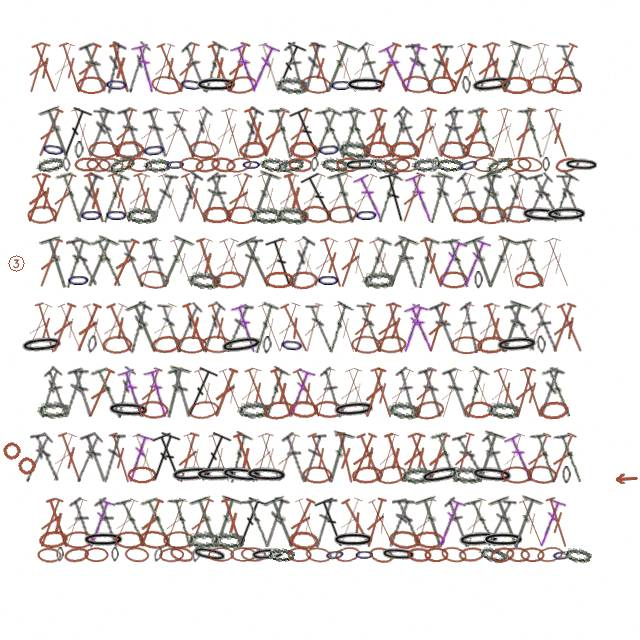chain: (418, 462, 465, 488), (218, 333, 265, 357), (469, 73, 515, 96), (19, 334, 65, 356), (219, 464, 265, 486), (469, 464, 515, 486), (494, 334, 540, 355), (331, 399, 377, 420), (169, 464, 215, 485), (456, 529, 502, 550), (519, 205, 565, 225), (106, 400, 151, 420), (244, 465, 289, 485), (544, 205, 589, 224), (194, 465, 239, 484), (190, 544, 229, 565), (194, 76, 239, 94), (344, 76, 389, 94), (81, 531, 126, 549), (331, 531, 376, 549), (481, 531, 526, 549), (106, 152, 137, 177), (375, 463, 408, 486), (484, 153, 515, 177), (150, 74, 183, 96), (225, 74, 258, 96), (187, 399, 220, 421), (262, 399, 295, 421), (337, 139, 371, 160), (413, 399, 445, 421), (300, 74, 333, 95), (275, 75, 309, 95), (275, 205, 309, 225), (187, 270, 221, 290), (387, 400, 421, 420), (400, 465, 434, 485), (326, 204, 358, 225), (501, 204, 533, 225), (138, 269, 170, 290), (526, 464, 558, 485), (138, 529, 170, 550), (388, 529, 420, 550), (301, 204, 332, 225), (151, 334, 182, 355), (38, 529, 69, 550), (249, 546, 287, 563), (438, 140, 470, 160), (213, 270, 245, 290), (351, 465, 383, 485), (413, 530, 445, 550), (35, 154, 65, 175), (478, 544, 508, 565), (380, 546, 417, 563), (362, 270, 395, 289), (37, 400, 70, 419), (237, 400, 270, 419), (450, 465, 483, 484), (187, 530, 220, 549), (238, 140, 269, 160), (476, 205, 507, 225), (288, 270, 319, 290), (476, 335, 507, 355), (538, 400, 569, 420), (288, 530, 319, 550), (401, 75, 433, 94), (188, 140, 220, 159), (275, 155, 305, 175), (367, 155, 397, 175), (125, 206, 158, 224), (250, 206, 283, 224), (487, 401, 520, 419), (212, 531, 245, 549), (343, 157, 380, 173), (563, 157, 600, 173), (201, 335, 232, 354), (351, 335, 382, 354), (376, 335, 407, 354), (138, 400, 169, 419), (313, 400, 344, 419), (168, 544, 196, 565), (527, 75, 557, 94), (114, 140, 144, 159), (27, 205, 57, 224), (102, 335, 132, 354), (289, 400, 319, 419), (178, 74, 205, 95), (40, 139, 67, 160), (225, 155, 253, 175), (76, 76, 107, 94), (501, 76, 532, 94), (551, 76, 582, 94), (88, 141, 119, 159), (363, 141, 394, 159), (463, 141, 494, 159), (226, 206, 257, 224), (176, 336, 207, 354), (451, 336, 482, 354), (501, 466, 532, 484), (63, 531, 94, 549), (163, 531, 194, 549), (427, 76, 457, 94), (289, 141, 319, 159), (389, 141, 419, 159), (194, 155, 221, 175), (554, 155, 581, 175), (202, 206, 232, 224), (452, 206, 482, 224), (264, 271, 294, 289), (439, 271, 469, 289), (514, 271, 544, 289), (464, 401, 494, 419), (127, 466, 157, 484), (302, 466, 332, 484), (114, 531, 144, 549), (368, 545, 395, 565), (516, 155, 544, 174), (440, 545, 468, 564), (536, 545, 564, 564), (563, 546, 592, 564), (141, 140, 167, 160), (279, 335, 305, 355), (334, 545, 361, 564), (489, 545, 516, 564), (316, 140, 342, 159), (259, 156, 288, 173), (320, 156, 349, 173), (411, 156, 440, 173), (63, 546, 90, 564), (305, 546, 332, 564), (457, 155, 481, 175), (104, 75, 129, 94), (394, 156, 421, 173), (240, 546, 267, 563), (458, 546, 485, 563), (329, 76, 354, 94), (79, 206, 104, 224), (104, 206, 129, 224), (354, 206, 379, 224), (66, 271, 91, 289), (316, 271, 341, 289), (143, 157, 171, 173), (210, 156, 236, 173), (124, 546, 150, 563), (505, 546, 531, 563), (435, 157, 463, 172), (267, 547, 295, 562), (98, 157, 124, 173), (384, 157, 410, 173), (86, 157, 111, 173), (288, 157, 313, 173), (37, 547, 62, 563), (159, 547, 184, 563), (407, 547, 432, 563), (473, 157, 499, 172), (208, 547, 234, 562), (230, 547, 256, 562), (74, 157, 99, 172), (127, 157, 152, 172), (179, 157, 204, 172), (336, 157, 361, 172), (507, 157, 532, 172), (84, 547, 109, 562), (287, 547, 312, 562), (424, 547, 449, 562), (520, 547, 545, 562), (324, 546, 346, 563), (551, 547, 573, 563), (165, 157, 186, 172), (241, 157, 262, 172), (354, 547, 375, 562), (86, 335, 98, 354), (536, 335, 547, 354), (461, 76, 472, 94), (152, 547, 164, 563), (74, 141, 84, 159), (262, 336, 272, 354), (474, 271, 483, 289), (562, 466, 571, 484), (191, 547, 201, 563), (62, 157, 71, 172), (310, 157, 319, 172), (431, 157, 440, 172), (542, 157, 550, 172), (56, 547, 64, 562), (111, 547, 119, 562)
double: (299, 170, 342, 226), (236, 235, 279, 291), (79, 235, 120, 291), (154, 235, 195, 291), (125, 300, 166, 356), (179, 365, 220, 421), (268, 40, 308, 96), (318, 40, 358, 96), (38, 105, 78, 161), (288, 105, 328, 161), (380, 235, 420, 291), (480, 235, 520, 291), (193, 430, 233, 486), (263, 495, 303, 551), (488, 495, 528, 551), (55, 105, 94, 161), (243, 170, 282, 226), (463, 235, 502, 291), (151, 430, 190, 486), (230, 495, 269, 551), (313, 495, 352, 551), (505, 495, 544, 551), (305, 105, 344, 160), (494, 40, 532, 96), (477, 170, 515, 226), (494, 300, 532, 356), (144, 430, 182, 486), (469, 430, 507, 486), (189, 495, 227, 551), (206, 495, 244, 551), (414, 495, 452, 551), (114, 495, 152, 550), (464, 495, 502, 550), (327, 170, 364, 226), (39, 235, 76, 291), (264, 235, 301, 291), (338, 496, 377, 549), (377, 41, 415, 95), (289, 366, 327, 420), (281, 496, 319, 550), (314, 105, 351, 160), (94, 170, 131, 225), (89, 235, 126, 290), (89, 365, 126, 420), (139, 495, 176, 550), (320, 430, 356, 486), (177, 171, 214, 225), (319, 171, 356, 225), (352, 171, 389, 225), (106, 236, 143, 290), (102, 301, 139, 355), (277, 301, 314, 355), (364, 496, 401, 550), (545, 170, 581, 225), (357, 235, 393, 290), (540, 365, 576, 420), (245, 41, 281, 95), (545, 41, 581, 95), (257, 106, 293, 160), (28, 171, 64, 225), (220, 171, 256, 225), (345, 171, 381, 225), (215, 236, 251, 290), (290, 236, 326, 290), (365, 236, 401, 290), (432, 236, 468, 290), (540, 236, 576, 290), (20, 301, 56, 355), (53, 301, 89, 355), (95, 301, 131, 355), (145, 301, 181, 355), (403, 301, 439, 355), (553, 301, 589, 355), (82, 366, 118, 420), (382, 366, 418, 420), (345, 431, 381, 485), (503, 431, 539, 485), (157, 105, 192, 160), (240, 105, 275, 160), (332, 105, 367, 160), (370, 170, 405, 225), (378, 170, 413, 225), (57, 235, 92, 290), (515, 235, 550, 290), (178, 300, 213, 355), (257, 365, 292, 420), (553, 430, 588, 485), (240, 495, 275, 550), (332, 495, 367, 550), (452, 432, 489, 484), (528, 171, 564, 224), (158, 365, 192, 421), (28, 41, 63, 95), (78, 41, 113, 95), (153, 41, 188, 95), (428, 41, 463, 95), (453, 41, 488, 95), (32, 106, 67, 160), (70, 171, 105, 225), (295, 171, 330, 225), (307, 236, 342, 290), (457, 236, 492, 290), (70, 301, 105, 355), (78, 301, 113, 355), (370, 301, 405, 355), (428, 301, 463, 355), (190, 366, 225, 420), (215, 366, 250, 420), (465, 366, 500, 420), (490, 366, 525, 420), (128, 431, 163, 485), (353, 431, 388, 485), (520, 431, 555, 485), (545, 431, 580, 485), (107, 496, 142, 550), (432, 496, 467, 550), (515, 496, 550, 550), (196, 40, 230, 95), (371, 40, 405, 95), (341, 105, 375, 160), (441, 235, 475, 290), (246, 300, 280, 355), (321, 300, 355, 355), (54, 430, 88, 485), (71, 41, 105, 95), (229, 41, 263, 95), (329, 41, 363, 95), (446, 41, 480, 95), (479, 41, 513, 95), (504, 41, 538, 95), (46, 171, 80, 225), (154, 171, 188, 225), (404, 171, 438, 225), (33, 236, 67, 290), (166, 236, 200, 290), (183, 236, 217, 290), (208, 236, 242, 290), (341, 236, 375, 290), (46, 301, 80, 355), (254, 301, 288, 355), (521, 301, 555, 355), (546, 301, 580, 355), (208, 366, 242, 420), (241, 366, 275, 420), (341, 366, 375, 420), (441, 366, 475, 420), (46, 431, 80, 485), (79, 431, 113, 485), (304, 431, 338, 485), (404, 431, 438, 485), (33, 496, 67, 550), (133, 496, 167, 550), (183, 496, 217, 550), (291, 496, 325, 550), (533, 496, 567, 550), (20, 432, 55, 484), (254, 40, 287, 95), (471, 40, 504, 95), (529, 40, 562, 95), (133, 105, 166, 160), (416, 105, 449, 160), (466, 105, 499, 160), (54, 170, 87, 225), (421, 170, 454, 225), (316, 235, 349, 290), (271, 300, 304, 355), (458, 365, 491, 420), (516, 365, 549, 420), (271, 430, 304, 485), (429, 430, 462, 485), (529, 430, 562, 485), (391, 106, 425, 159), (454, 171, 488, 224), (66, 236, 100, 289), (504, 301, 538, 354), (529, 301, 563, 354), (483, 496, 517, 549), (204, 41, 237, 95), (83, 106, 116, 160), (116, 106, 149, 160), (191, 106, 224, 160), (283, 106, 316, 160), (366, 106, 399, 160), (458, 106, 491, 160), (541, 106, 574, 160), (21, 171, 54, 225), (104, 171, 137, 225), (121, 171, 154, 225), (229, 171, 262, 225), (254, 171, 287, 225), (396, 171, 429, 225), (446, 171, 479, 225), (504, 171, 537, 225), (258, 236, 291, 290), (416, 236, 449, 290), (204, 301, 237, 355), (471, 301, 504, 355), (266, 366, 299, 420), (283, 366, 316, 420), (333, 366, 366, 420), (533, 366, 566, 420), (179, 431, 212, 485), (204, 431, 237, 485), (229, 431, 262, 485), (254, 431, 287, 485), (396, 431, 429, 485), (83, 496, 116, 550), (158, 496, 191, 550), (521, 172, 555, 224), (71, 432, 105, 484), (222, 40, 254, 95), (484, 105, 516, 160), (517, 105, 549, 160), (409, 235, 441, 290), (422, 300, 454, 355), (222, 430, 254, 485), (542, 495, 574, 550), (179, 41, 212, 94), (171, 171, 204, 224), (283, 236, 316, 289), (22, 41, 54, 95), (47, 41, 79, 95), (55, 41, 87, 95), (147, 41, 179, 95), (67, 106, 99, 160), (142, 106, 174, 160), (209, 106, 241, 160), (359, 106, 391, 160), (534, 106, 566, 160), (130, 171, 162, 225), (280, 171, 312, 225), (142, 236, 174, 290), (192, 236, 224, 290), (334, 236, 366, 290), (230, 301, 262, 355), (330, 301, 362, 355), (347, 301, 379, 355), (397, 301, 429, 355), (480, 301, 512, 355), (67, 366, 99, 420), (117, 366, 149, 420), (134, 366, 166, 420), (417, 366, 449, 420), (434, 366, 466, 420), (484, 366, 516, 420), (122, 431, 154, 485), (422, 431, 454, 485), (497, 431, 529, 485), (42, 496, 74, 550), (59, 496, 91, 550), (217, 496, 249, 550), (259, 496, 291, 550), (171, 302, 204, 354), (167, 495, 198, 550), (355, 41, 387, 94), (405, 41, 437, 94), (422, 41, 454, 94), (147, 171, 179, 224), (205, 171, 237, 224), (497, 171, 529, 224), (222, 301, 254, 354), (30, 431, 62, 484), (392, 496, 424, 549), (442, 496, 474, 549), (105, 41, 136, 95), (305, 41, 336, 95), (347, 41, 378, 95), (397, 41, 428, 95), (522, 41, 553, 95), (109, 106, 140, 160), (217, 106, 248, 160), (234, 106, 265, 160), (409, 106, 440, 160), (80, 171, 111, 225), (272, 171, 303, 225), (134, 236, 165, 290), (509, 236, 540, 290), (534, 236, 565, 290), (122, 301, 153, 355), (447, 301, 478, 355), (167, 366, 198, 420), (234, 366, 265, 420), (359, 366, 390, 420), (367, 366, 398, 420), (409, 366, 440, 420), (509, 366, 540, 420), (105, 431, 136, 485), (172, 431, 203, 485), (372, 431, 403, 485), (380, 431, 411, 485), (409, 496, 440, 550), (167, 107, 199, 159), (268, 105, 298, 160), (305, 301, 336, 354), (42, 366, 73, 419), (280, 431, 311, 484), (480, 431, 511, 484), (384, 496, 415, 549), (173, 41, 203, 95), (493, 106, 523, 160), (510, 106, 540, 160), (473, 171, 503, 225), (31, 301, 61, 355), (298, 301, 328, 355), (143, 366, 173, 420), (248, 431, 278, 485), (448, 431, 478, 485), (360, 496, 390, 550), (460, 496, 490, 550), (93, 106, 123, 159), (556, 171, 586, 224), (393, 236, 423, 289), (68, 496, 98, 549), (93, 496, 123, 549), (131, 41, 160, 95), (298, 41, 327, 95), (493, 236, 522, 290), (310, 366, 339, 420), (331, 431, 360, 485), (123, 41, 152, 94), (556, 41, 585, 94), (185, 106, 214, 159), (385, 106, 414, 159), (435, 106, 464, 159), (443, 106, 472, 159), (198, 171, 227, 224), (431, 171, 460, 224), (118, 236, 147, 289), (198, 301, 227, 354), (356, 301, 385, 354), (35, 366, 64, 419), (60, 366, 89, 419), (318, 366, 347, 419), (99, 41, 127, 95), (382, 301, 410, 355), (282, 41, 310, 94), (236, 236, 264, 289), (157, 301, 185, 354), (299, 431, 327, 484), (394, 366, 421, 419), (99, 431, 126, 484), (311, 496, 338, 549), (458, 301, 484, 354), (112, 366, 137, 419)
noise: (0, 439, 23, 462), (16, 455, 38, 477), (6, 253, 27, 274), (613, 473, 638, 484)
